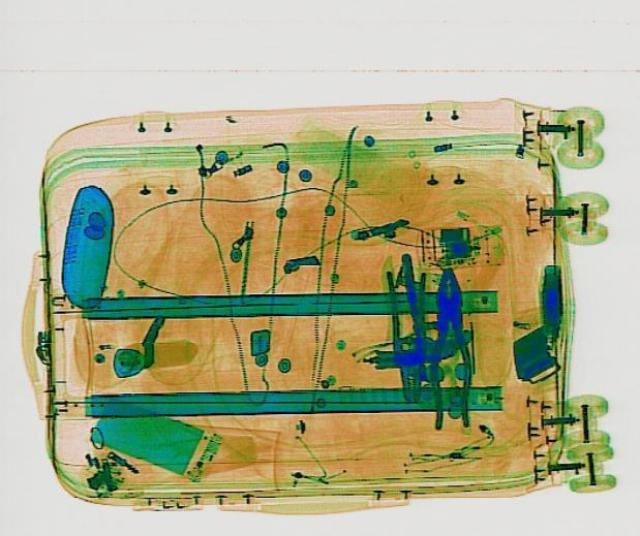Pliers: (426, 265, 470, 428), (382, 267, 430, 401)
